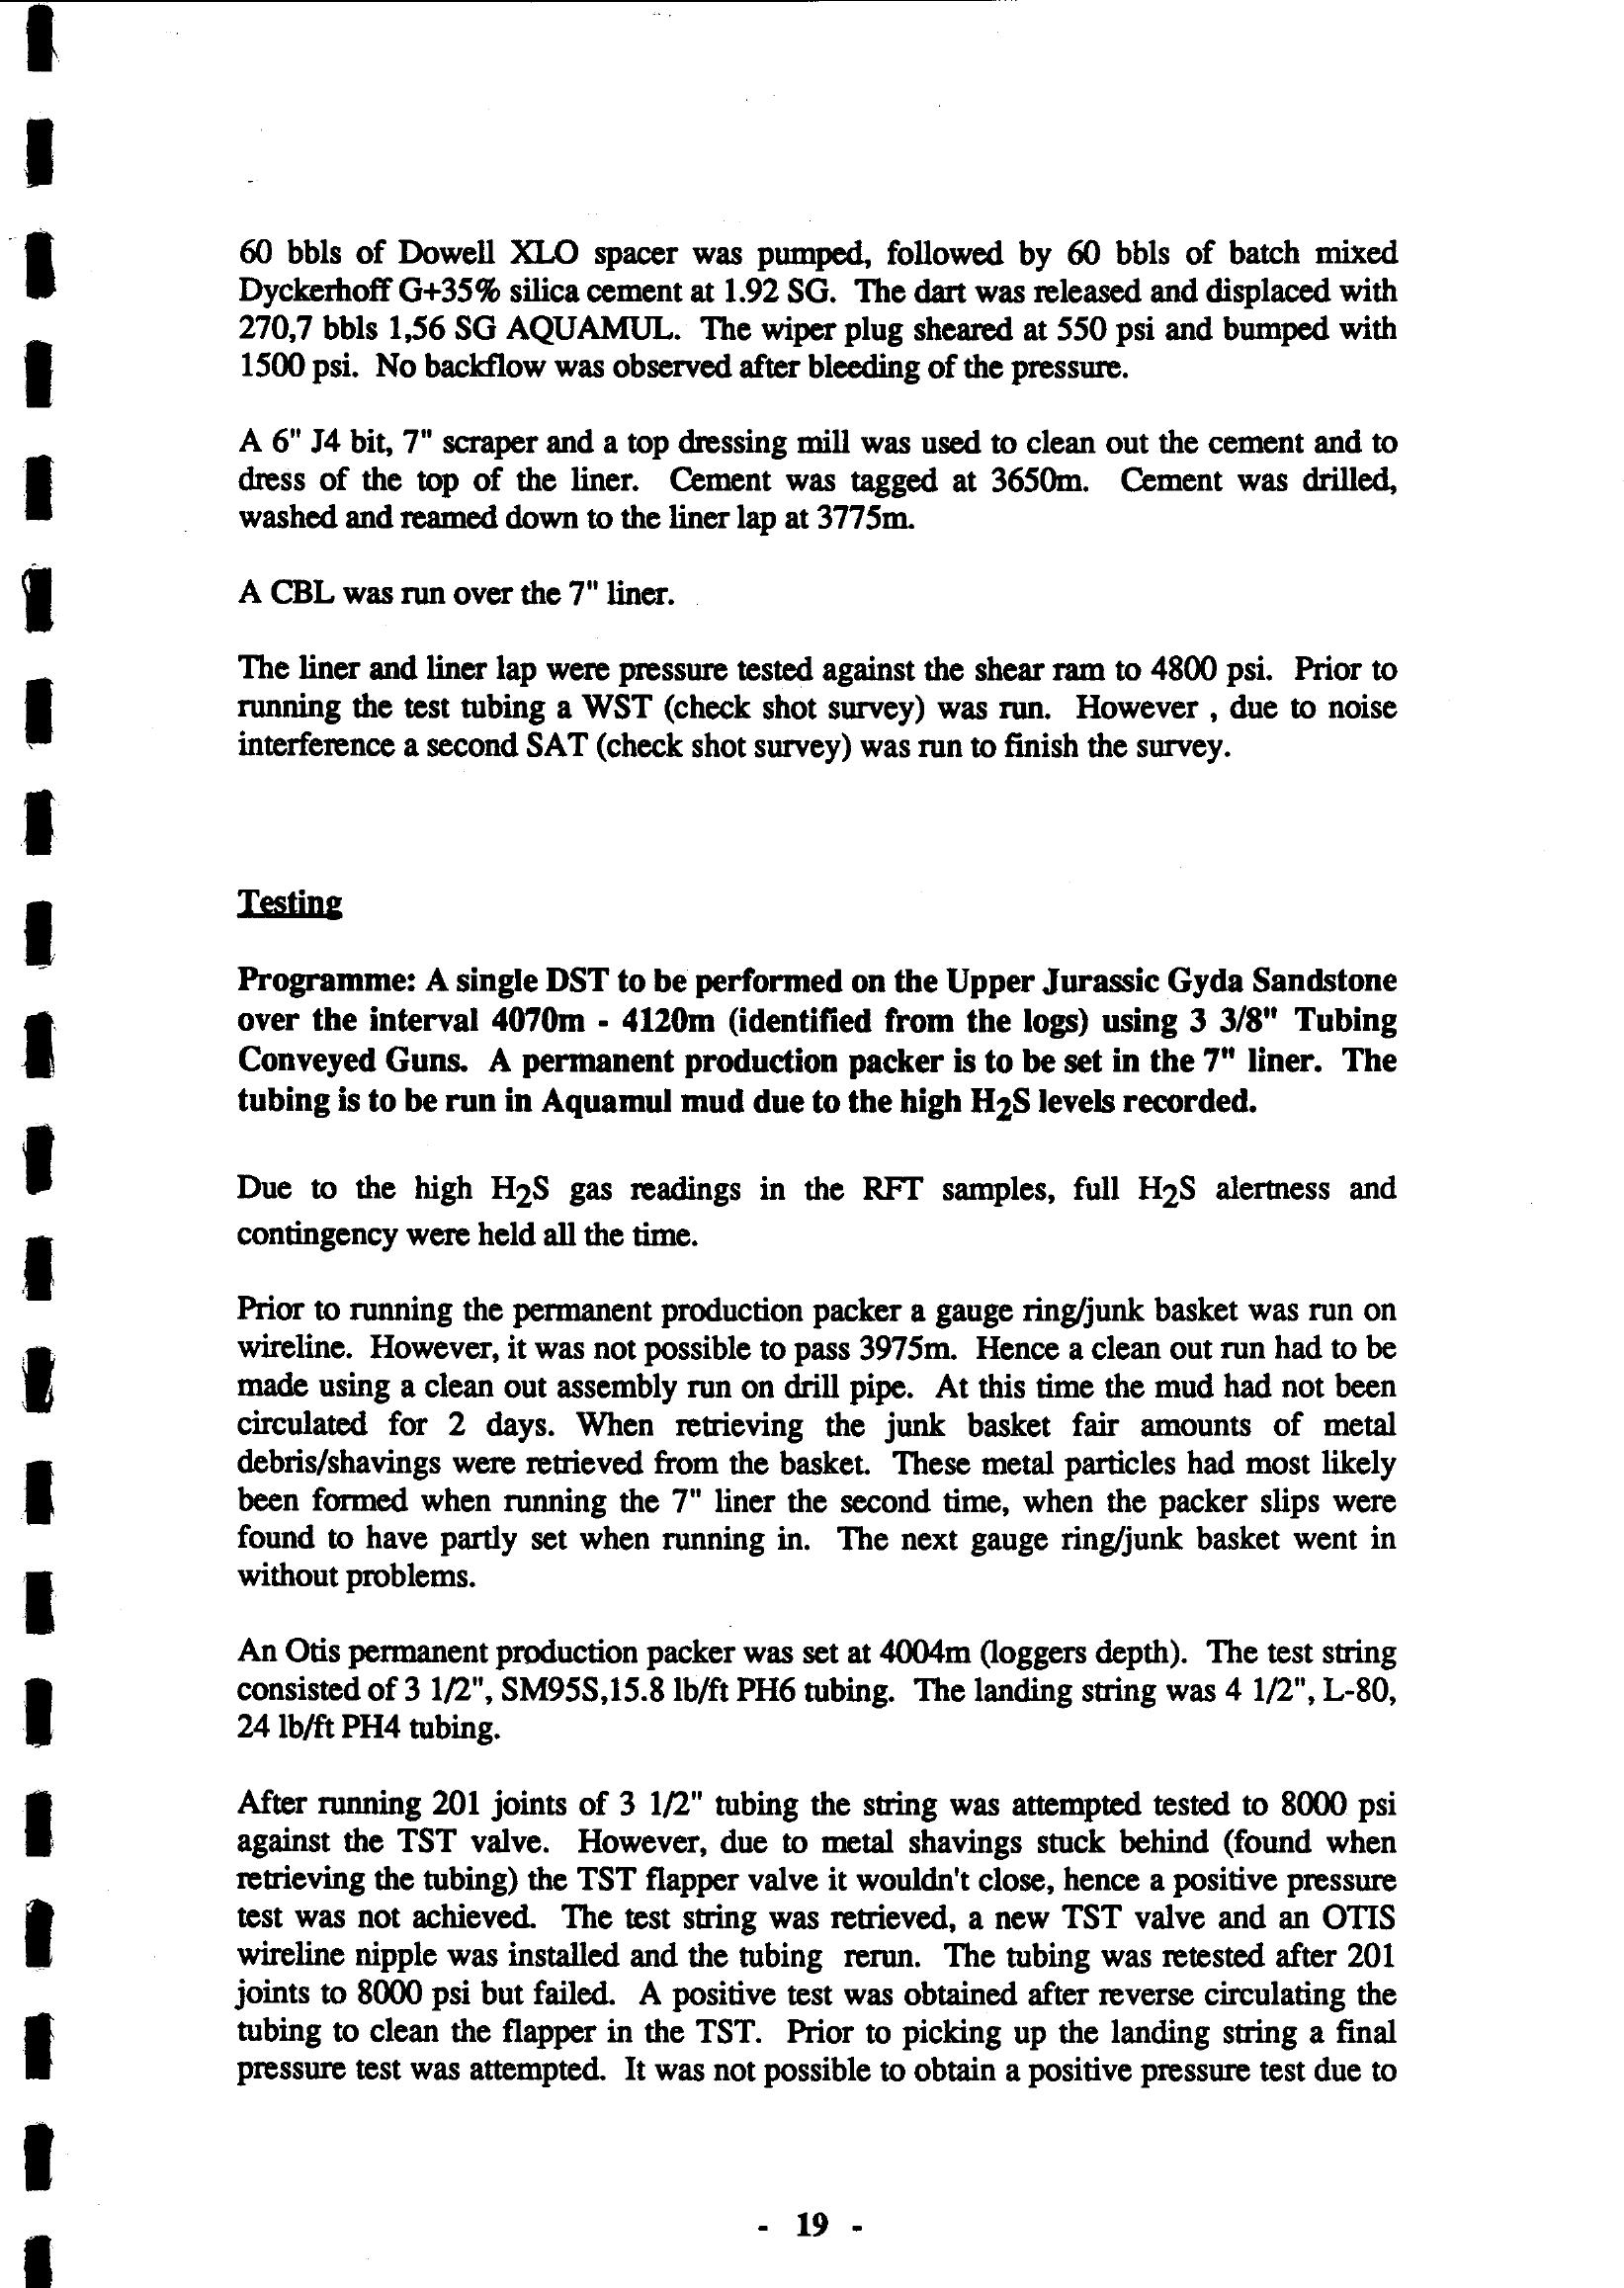text: (162, 202, 1469, 2149)
